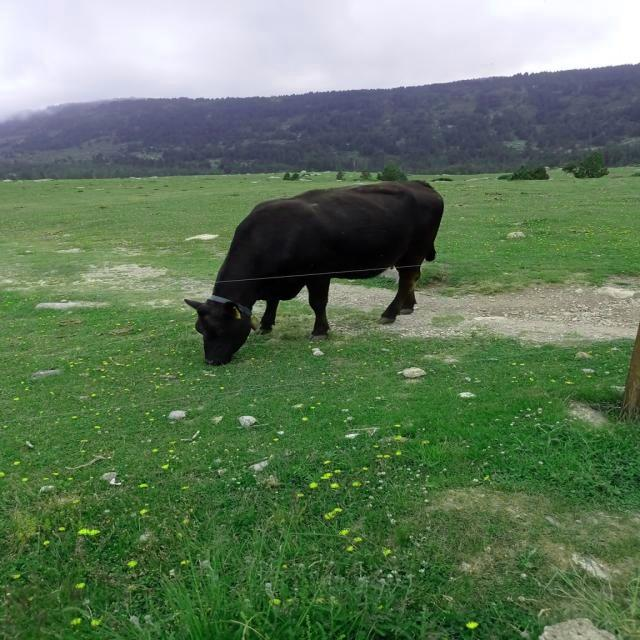cow: (185, 181, 444, 364)
